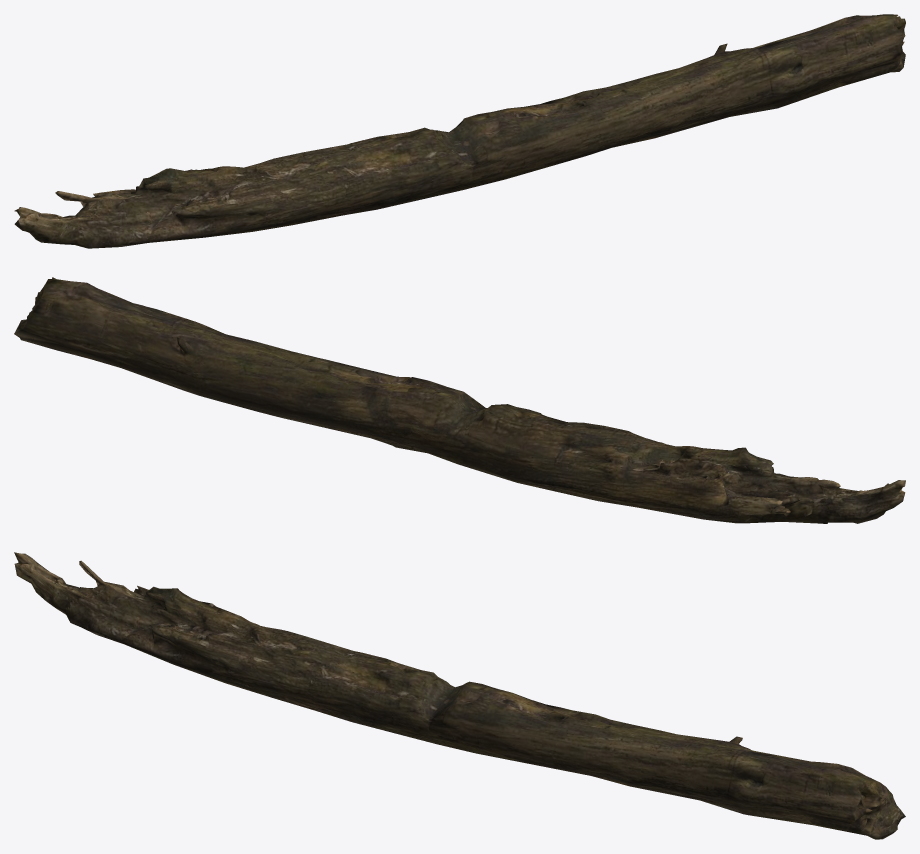
File: dead_tree_trunk.glb
3 views of the same model, one above another, from view 1: azimuth 30°, elevation 25°; view 2: azimuth 150°, elevation 25°; view 3: azimuth 330°, elevation 25° (orthographic).
Parts seen in each view (by area): view 1: dead_tree_trunk; view 2: dead_tree_trunk; view 3: dead_tree_trunk.
Part boxes in pixels (x1=…): dead_tree_trunk: x1=14, y1=14, x2=905, y2=248; dead_tree_trunk: x1=14, y1=277, x2=905, y2=523; dead_tree_trunk: x1=14, y1=552, x2=905, y2=839.
Size of the model in its own units: 3.05 by 0.287 by 0.2756.
1 material, 1 textured.
